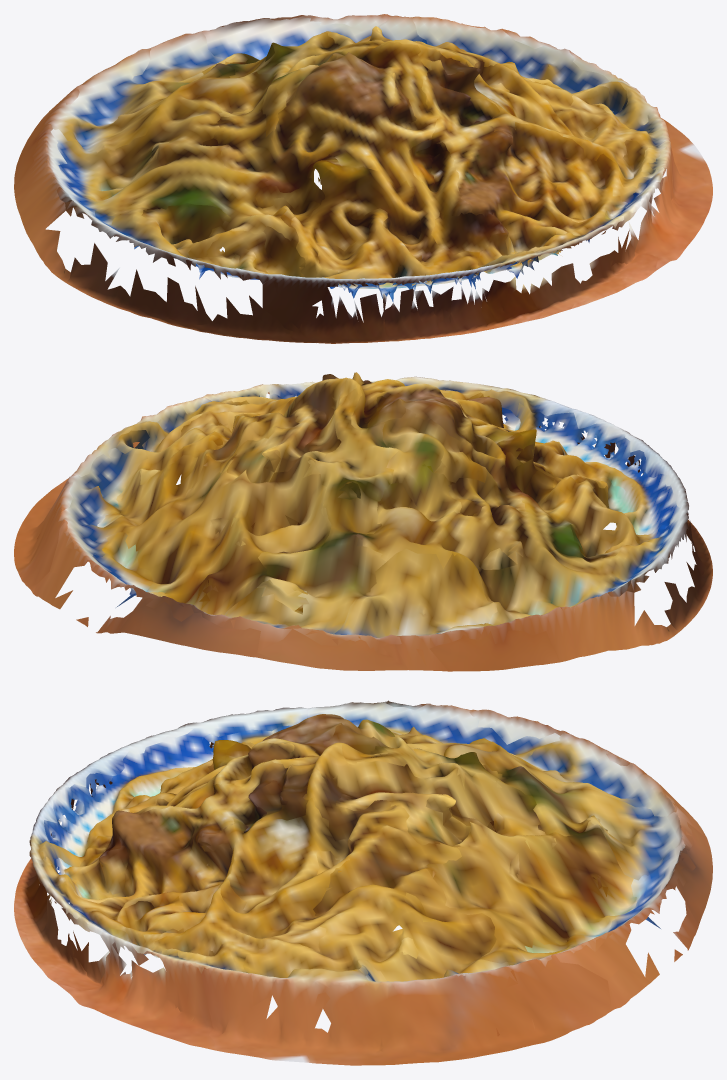
Rendered from mi-goreng-daging.glb.
3 views of the same model, one above another, from view 1: azimuth 30°, elevation 25°; view 2: azimuth 150°, elevation 25°; view 3: azimuth 270°, elevation 25° (orthographic). The views are drawn at different scales.
Parts seen in each view (by area): view 1: Object_2; view 2: Object_2; view 3: Object_2.
Part boxes in pixels (bbox=[...]): Object_2: bbox=[14, 14, 712, 343]; Object_2: bbox=[14, 372, 712, 671]; Object_2: bbox=[14, 700, 712, 1065].
Bounding box in the file's own units: 0.2859 × 0.0754 × 0.266.
1 material, 1 textured.
